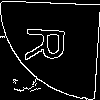R: (24, 24, 75, 64)
